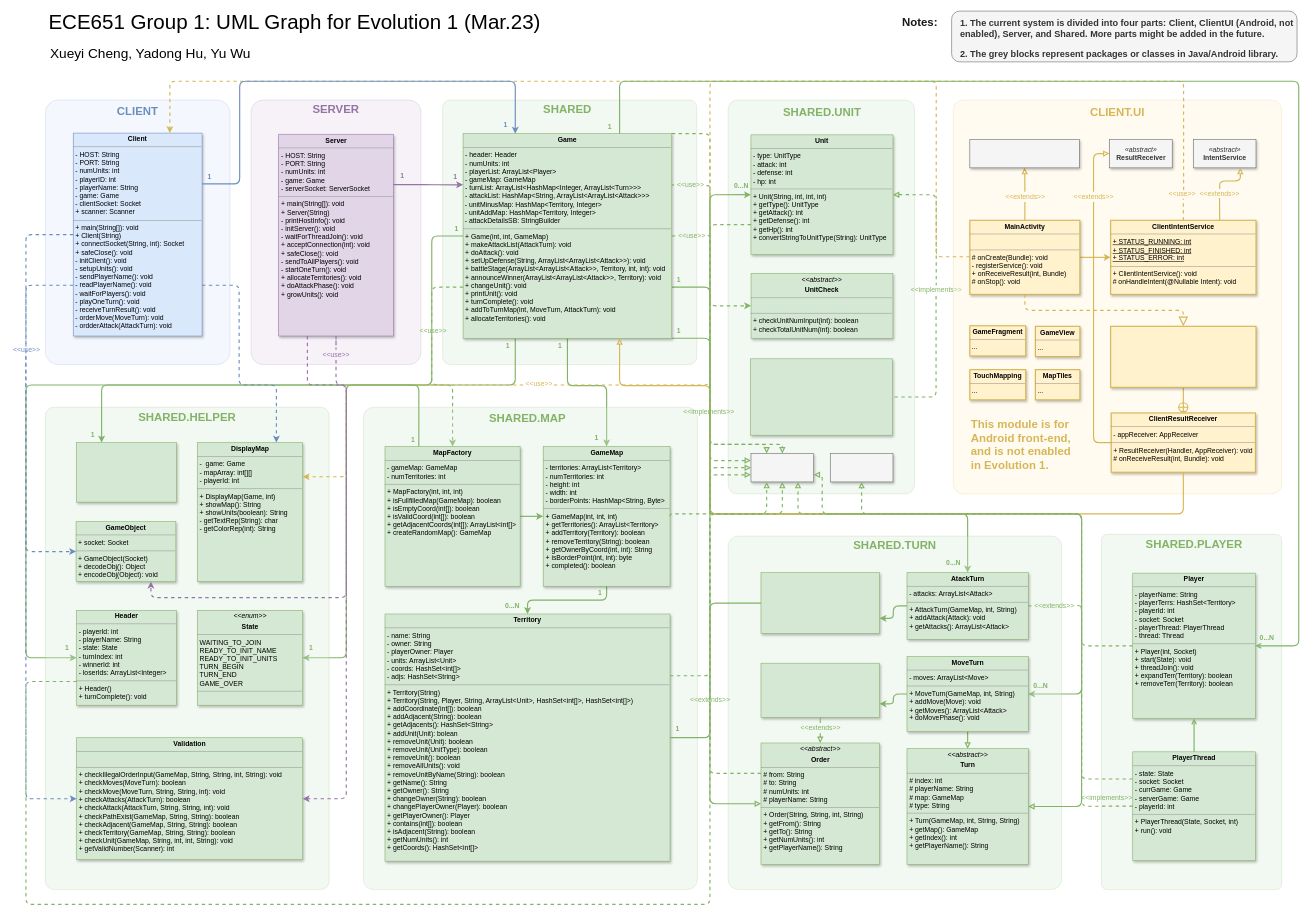
Image size: 1313x919. Some labels were removed from this diagram. The centre of each missing label's shape, as x and y in pixels:
"<<enum>> UnitType NORMAL DEFENSE BASIC OTHERS" goes at pixel 822 397.
"<<Interface>> AppReceiver + onReceiveResult(int, Bundle): void" goes at pixel 1184 357.
"AppCompatActivity" goes at pixel 1025 154.
"Atack + Attack(String, String, int, String) + removeUnit(): void" goes at pixel 820 604.
"Dice - maxPoint: int + Dice(int) + getDice(): int + getMaxPoint(): int" goes at pixel 127 473.
"Move + Move(String, String, int, String)" goes at pixel 820 690.
"«interface» Runnable" goes at pixel 861 468.
"«interface» Serializable" goes at pixel 782 468.
